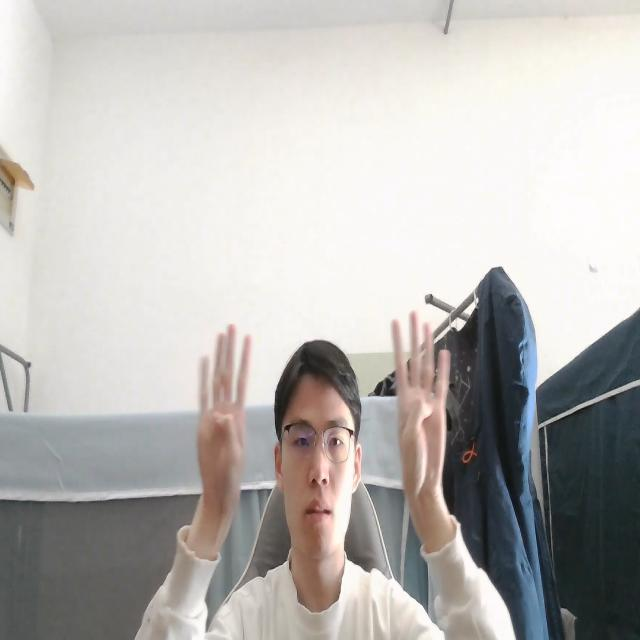four: (193, 318, 250, 538), (391, 307, 450, 515)
